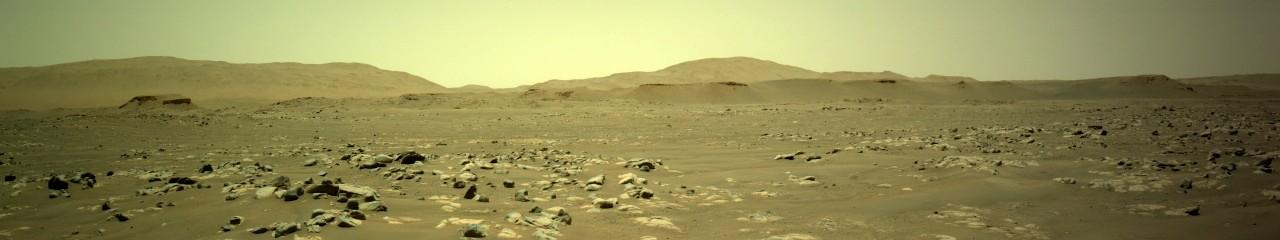bedrock: (1, 97, 1276, 238), (912, 204, 1057, 237)
big_rock: (120, 93, 197, 107), (1141, 70, 1173, 82), (715, 78, 752, 88), (1217, 91, 1260, 98), (646, 79, 675, 87), (879, 75, 901, 84), (1178, 85, 1198, 92), (526, 85, 541, 93), (955, 78, 970, 86), (557, 89, 574, 96), (853, 94, 884, 97), (404, 93, 416, 99), (276, 98, 283, 102)
sand: (1250, 209, 1275, 237)
soil: (1056, 234, 1201, 236), (887, 226, 920, 234)
